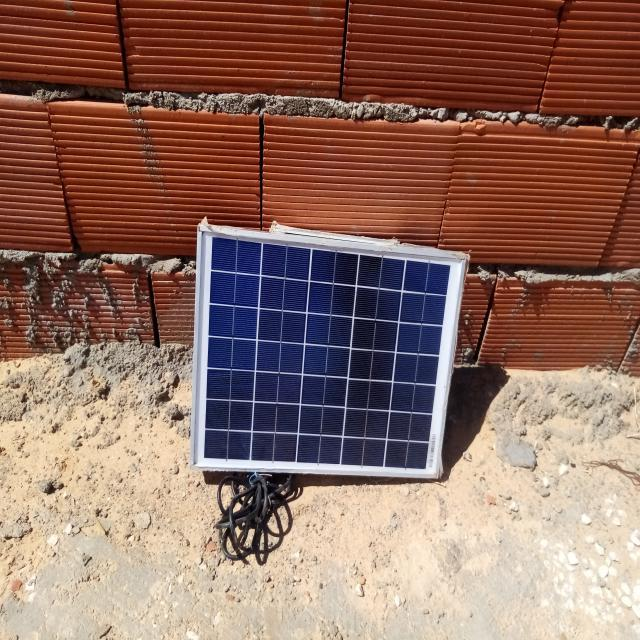no faulty: (191, 229, 465, 477)
